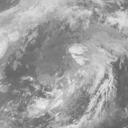cyclone: (36, 34, 112, 103)
